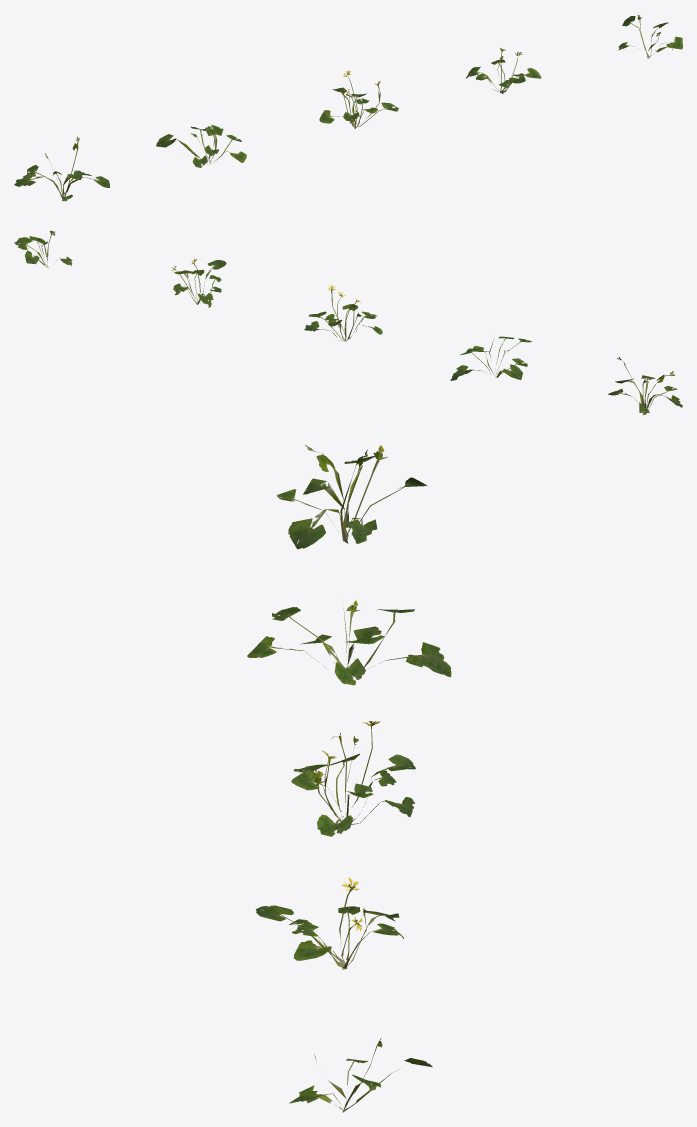
The model's file is celandine_01_lod2.glb.
3 renders of one model, top to bottom at view 1: azimuth 30°, elevation 25°; view 2: azimuth 150°, elevation 25°; view 3: azimuth 270°, elevation 25°, orthographic. The views are drawn at different scales.
Parts seen in each view (by area): view 1: celandine_01_b_LOD0, celandine_01_c_LOD0, celandine_01_a_LOD0, celandine_01_d_LOD0, celandine_01_e_LOD0; view 2: celandine_01_c_LOD0, celandine_01_d_LOD0, celandine_01_b_LOD0, celandine_01_a_LOD0, celandine_01_e_LOD0; view 3: celandine_01_a_LOD0, celandine_01_b_LOD0, celandine_01_c_LOD0, celandine_01_d_LOD0, celandine_01_e_LOD0.
Boxes of the visible parts, left/top/right/bottom form: celandine_01_b_LOD0: left=156, top=125, right=246, bottom=167; celandine_01_c_LOD0: left=319, top=70, right=398, bottom=128; celandine_01_a_LOD0: left=14, top=136, right=109, bottom=201; celandine_01_d_LOD0: left=465, top=48, right=541, bottom=93; celandine_01_e_LOD0: left=618, top=15, right=682, bottom=58; celandine_01_c_LOD0: left=304, top=285, right=382, bottom=341; celandine_01_d_LOD0: left=171, top=259, right=226, bottom=307; celandine_01_b_LOD0: left=450, top=336, right=532, bottom=380; celandine_01_a_LOD0: left=608, top=357, right=682, bottom=415; celandine_01_e_LOD0: left=14, top=230, right=72, bottom=267; celandine_01_a_LOD0: left=276, top=445, right=426, bottom=549; celandine_01_b_LOD0: left=247, top=600, right=451, bottom=685; celandine_01_c_LOD0: left=291, top=721, right=415, bottom=836; celandine_01_d_LOD0: left=256, top=877, right=403, bottom=969; celandine_01_e_LOD0: left=289, top=1037, right=432, bottom=1112.
Size of the model in its own units: 2.24 by 0.185 by 0.3051.
1 material, 1 textured.
